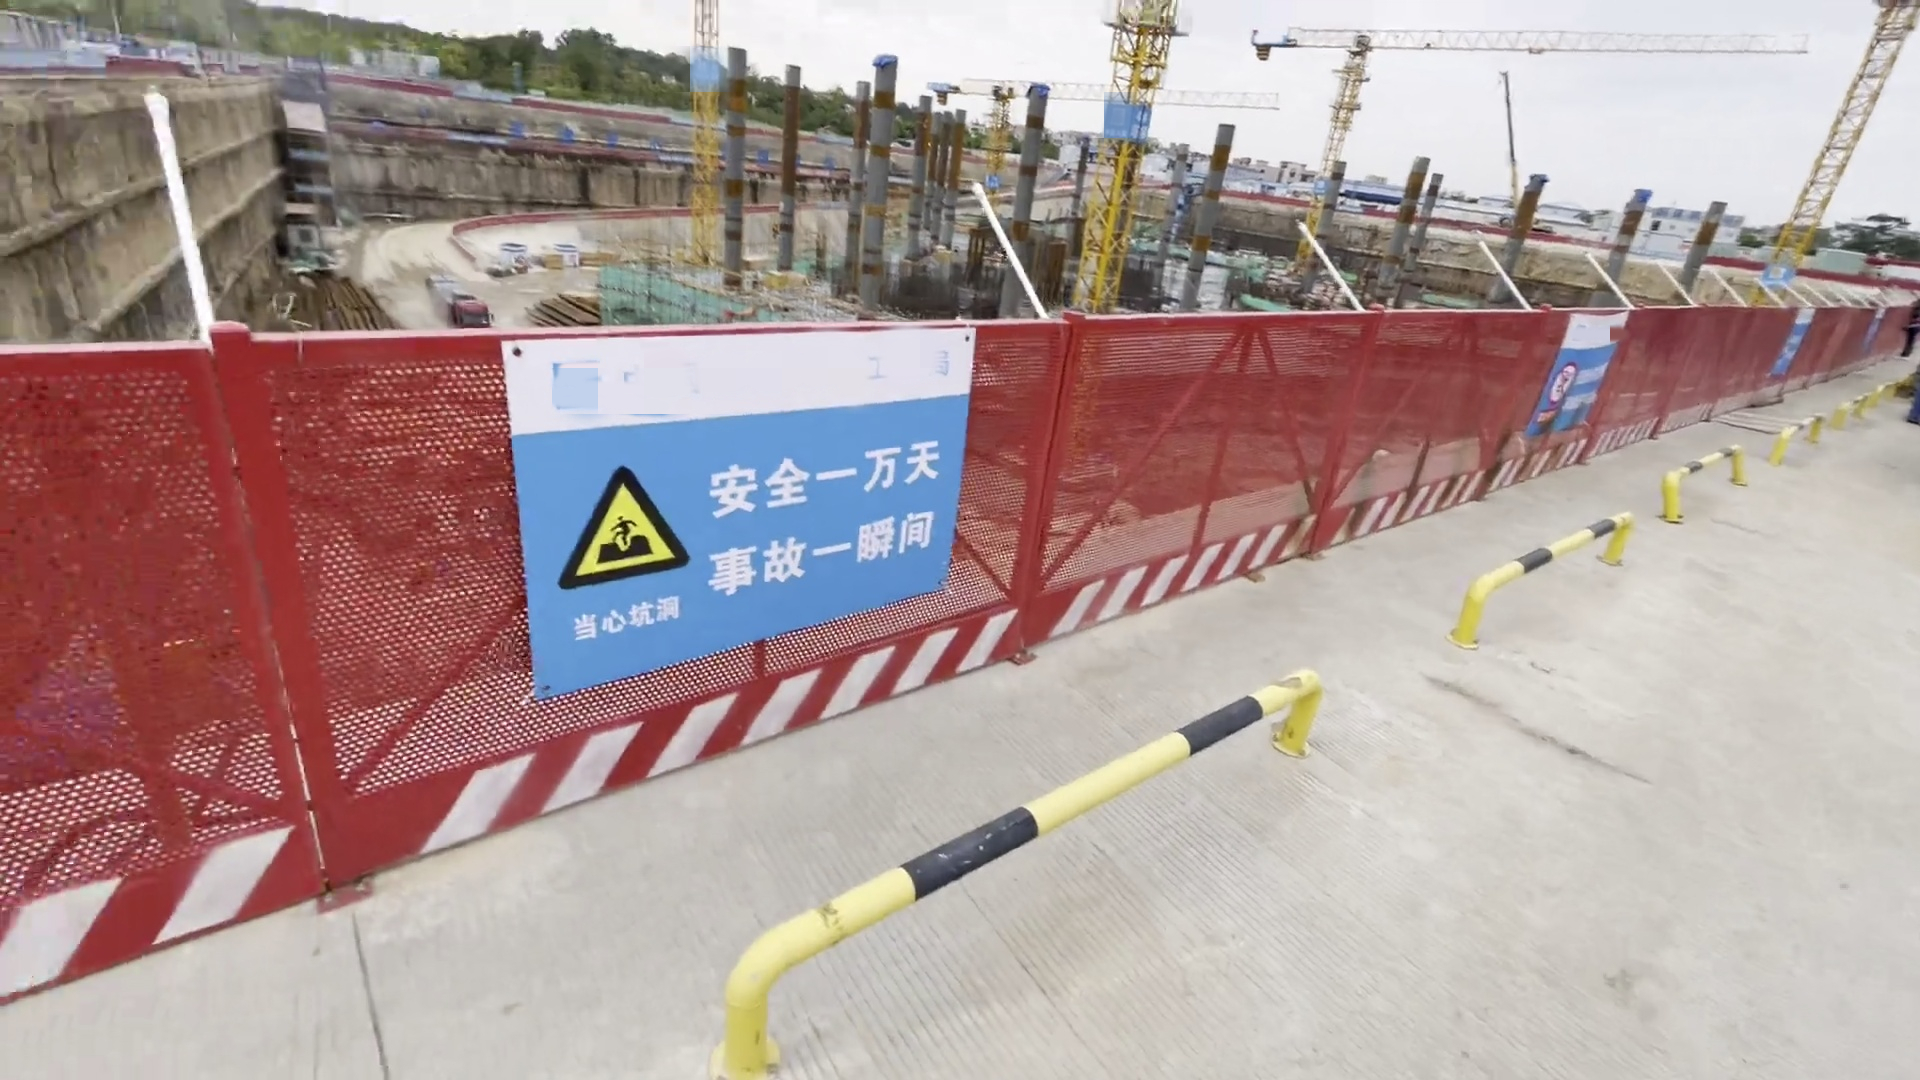fence: (1, 307, 1514, 851)
slogan: (518, 369, 1018, 641), (1545, 334, 1631, 425), (1131, 109, 1149, 141)
